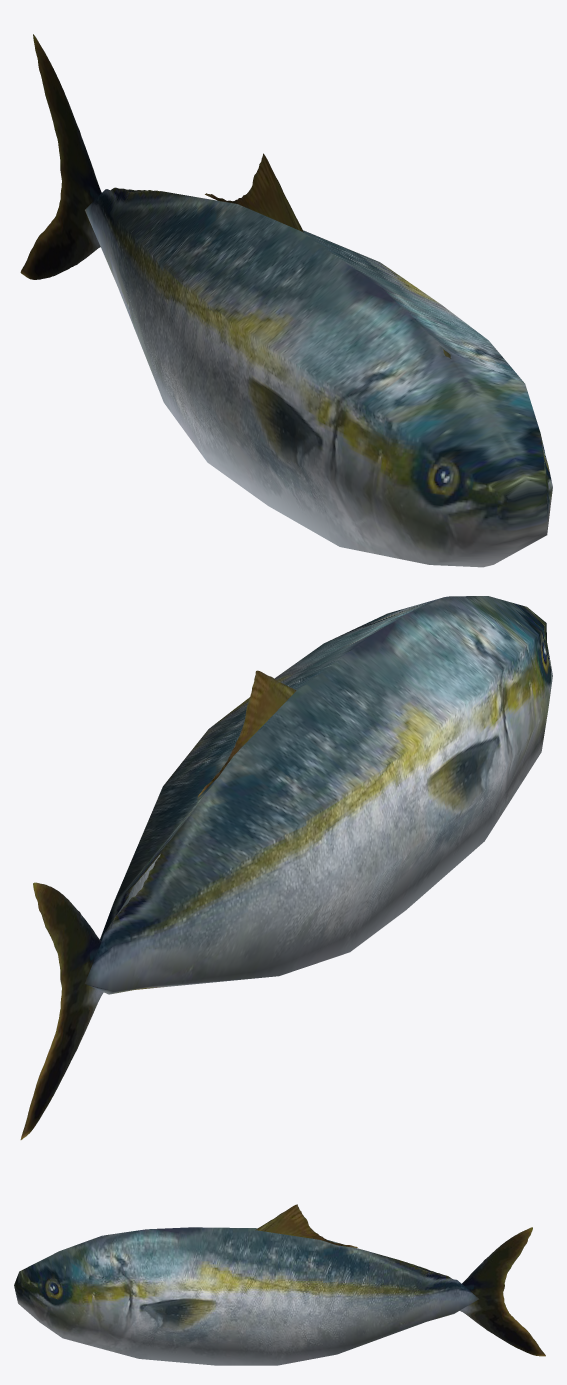
The model's file is boidPredetorModel.glb.
3 views of the same model, one above another, from view 1: azimuth 30°, elevation 25°; view 2: azimuth 150°, elevation 25°; view 3: azimuth 270°, elevation 25° (orthographic). The views are drawn at different scales.
Visible parts, largest first — view 1: Cube.004; view 2: Cube.004; view 3: Cube.004.
Boxes of the visible parts, left/top/right/bottom form: Cube.004: left=20, top=34, right=552, bottom=567; Cube.004: left=20, top=596, right=552, bottom=1139; Cube.004: left=14, top=1204, right=545, bottom=1365.
Size of the model in its own units: 0.2715 by 0.4521 by 1.3.
1 material, 1 textured.
